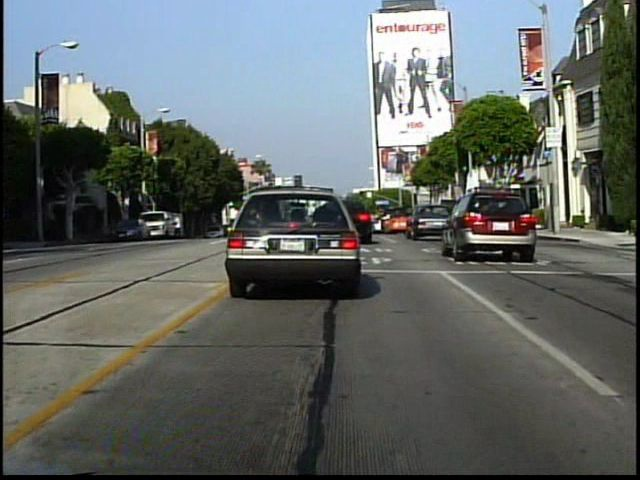person: (173, 210, 185, 241)
